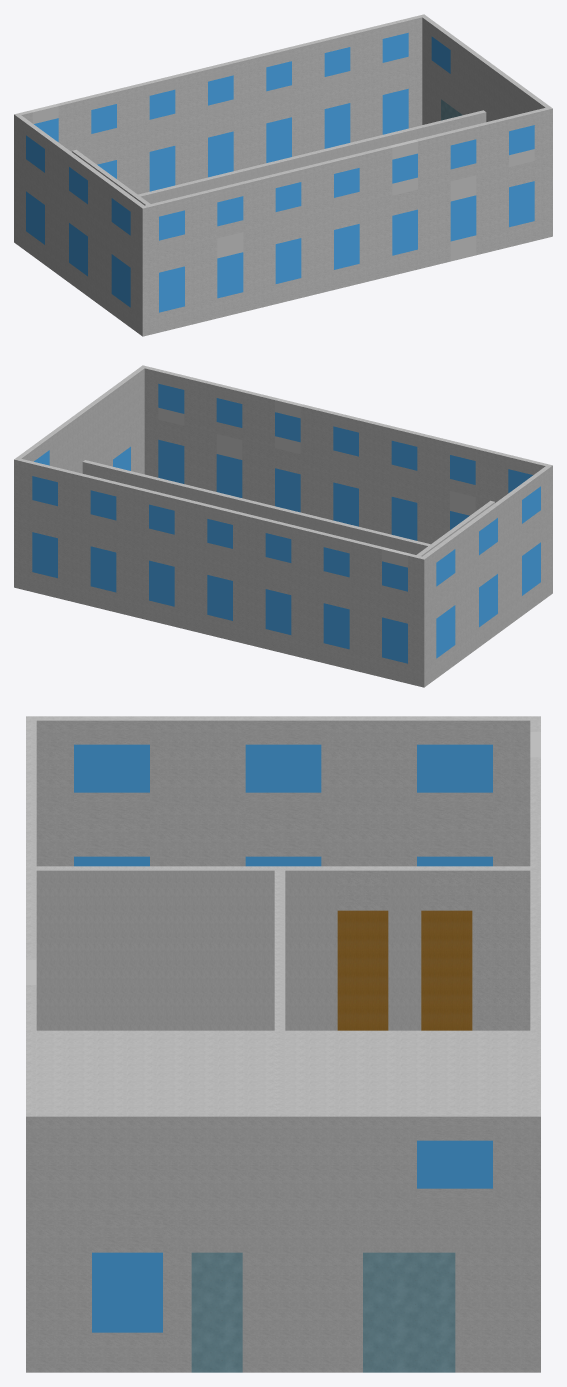
File: Maintenance_Workshop_expansion.glb
3 renders of one model, top to bottom at view 1: azimuth 30°, elevation 25°; view 2: azimuth 150°, elevation 25°; view 3: azimuth 270°, elevation 25°, orthographic. The views are drawn at different scales.
Parts seen in each view (by area): view 1: Floor1; view 2: Floor1; view 3: Floor1.
Part boxes in pixels (left/top/right/bottom): Floor1: left=14, top=14, right=552, bottom=336; Floor1: left=14, top=365, right=552, bottom=687; Floor1: left=26, top=716, right=540, bottom=1372.
Bounding box in the file's own units: 21.45 × 6.4 × 11.67.
4 materials, 4 textured.
